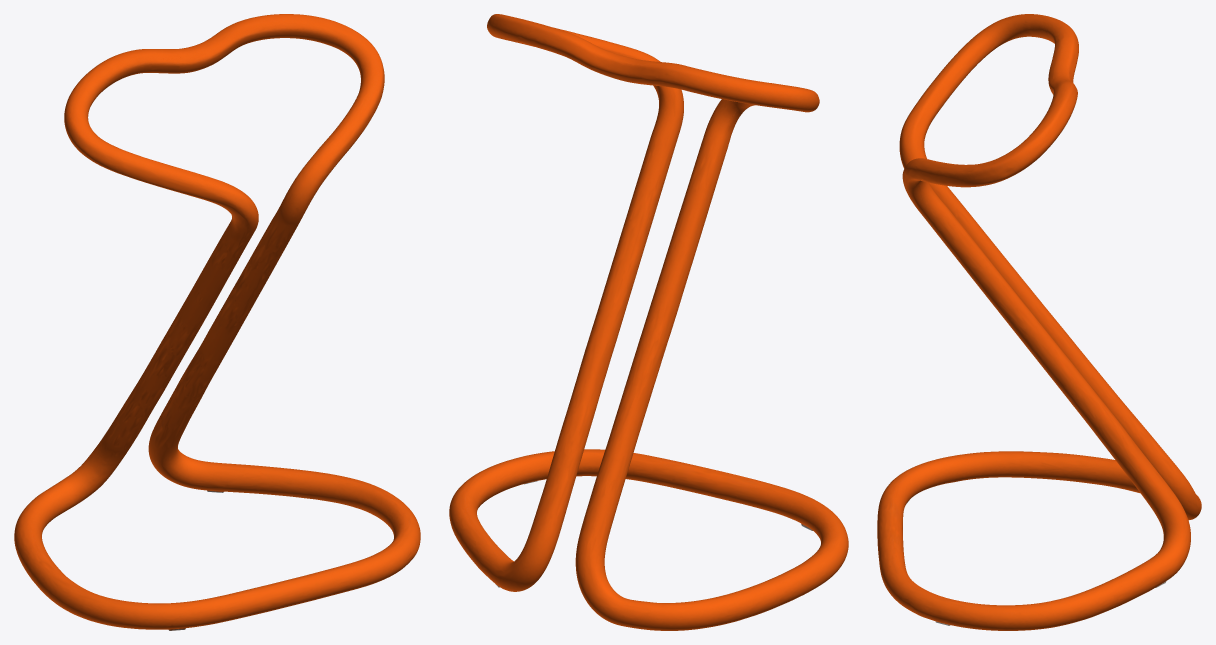
The model's file is Meshy_AI_Orange_Loop_Stool_0927223359_texture.glb.
3 views of the same model, side by side, from view 1: azimuth 30°, elevation 25°; view 2: azimuth 150°, elevation 25°; view 3: azimuth 270°, elevation 25° (orthographic). The views are drawn at different scales.
Parts seen in each view (by area): view 1: Mesh_0.002; view 2: Mesh_0.002; view 3: Mesh_0.002.
Boxes of the visible parts, x1,y1,x2,y2 form: Mesh_0.002: (14,14,420,630); Mesh_0.002: (449,14,848,630); Mesh_0.002: (877,14,1201,630).
Size of the model in its own units: 0.29 by 0.4 by 0.2395.
Materials: 1 (1 with a texture image).
